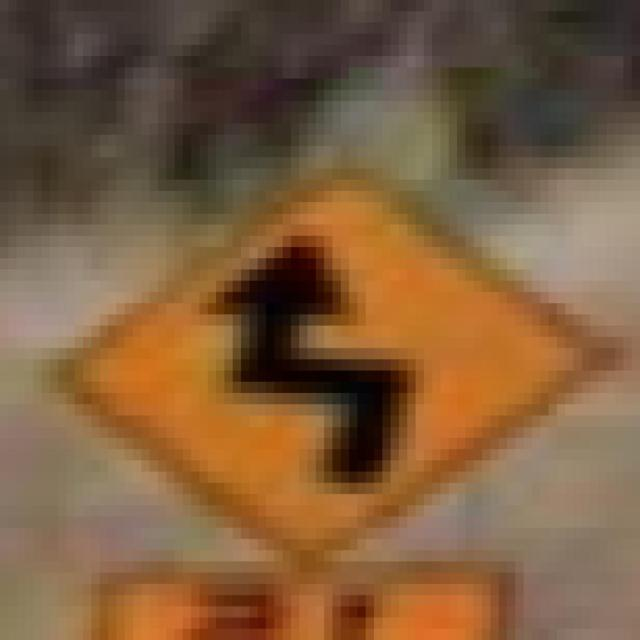Tikungan Ganda Pertama Ke Kiri: (24, 135, 606, 572)
